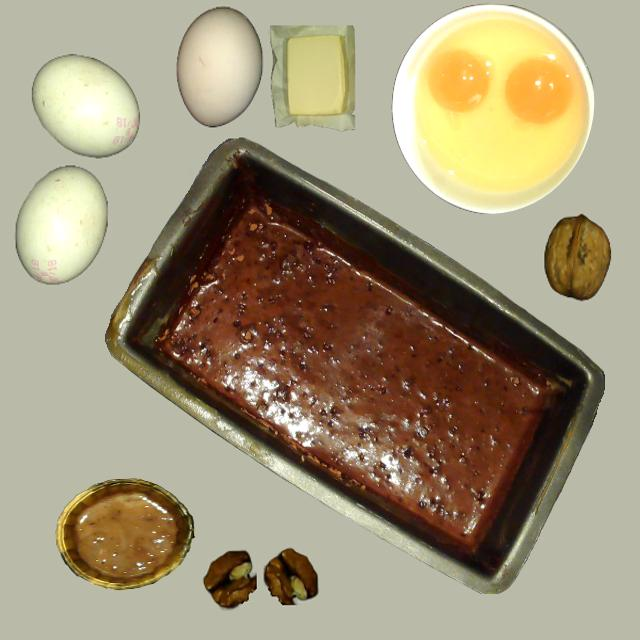Egg: (422, 21, 576, 190), (505, 56, 572, 125), (429, 49, 492, 113)
Walnut: (544, 215, 610, 299)
